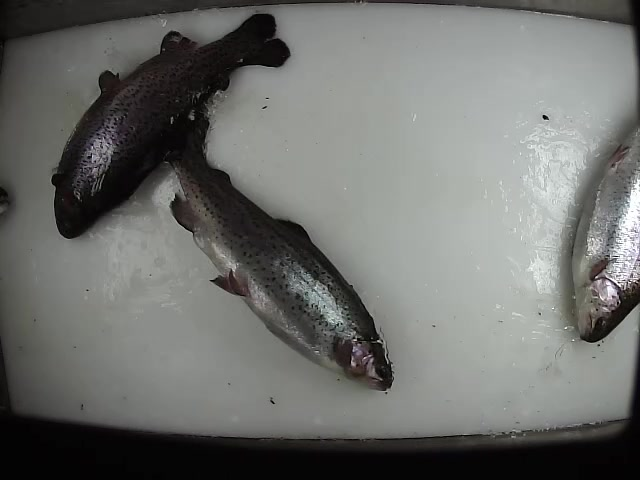fish: (161, 107, 400, 394), (50, 6, 292, 240), (571, 119, 640, 346), (1, 182, 15, 223)
